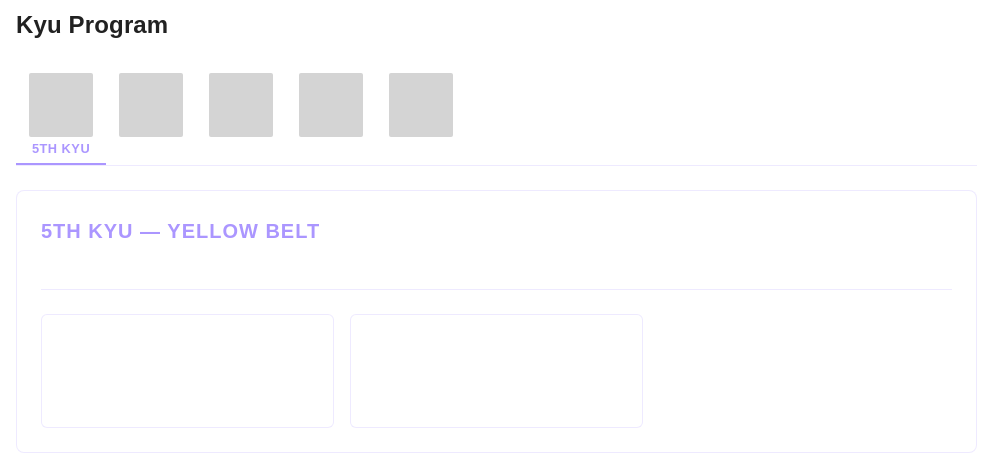
KyuProgram page › tab switching › shows 4th Kyu level content when the tab is clicked
Click the tab "4th Kyu".
click(151, 115)  # box 106,65 -> 196,165
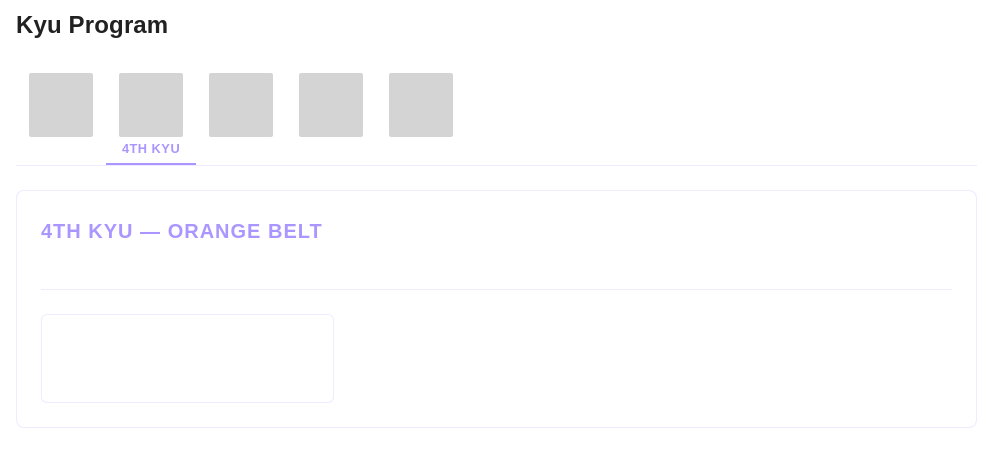
Expected: the heading "4TH KYU — ORANGE BELT" is shown, 41,220 -> 323,242
